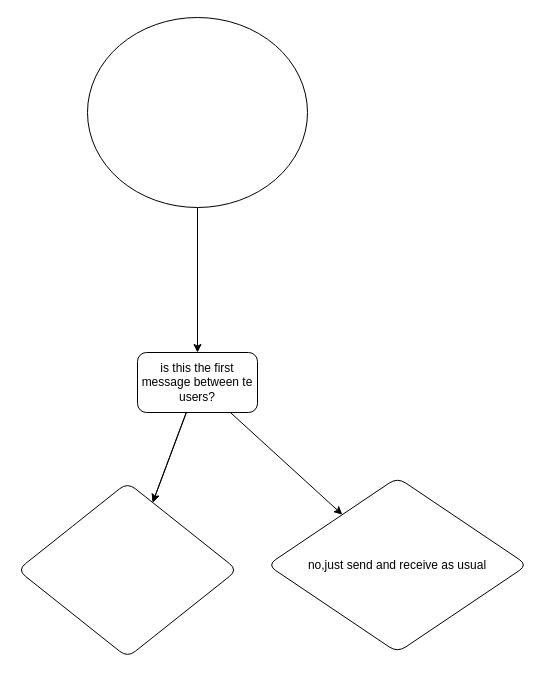
Image size: 545x675. Some labels were removed from this diagram. The box of each missing label's shape, as (x1, y1, x2, y2) in pixels:
send message: (86, 16, 308, 208)
yes, create conversation in database: (16, 482, 238, 658)
